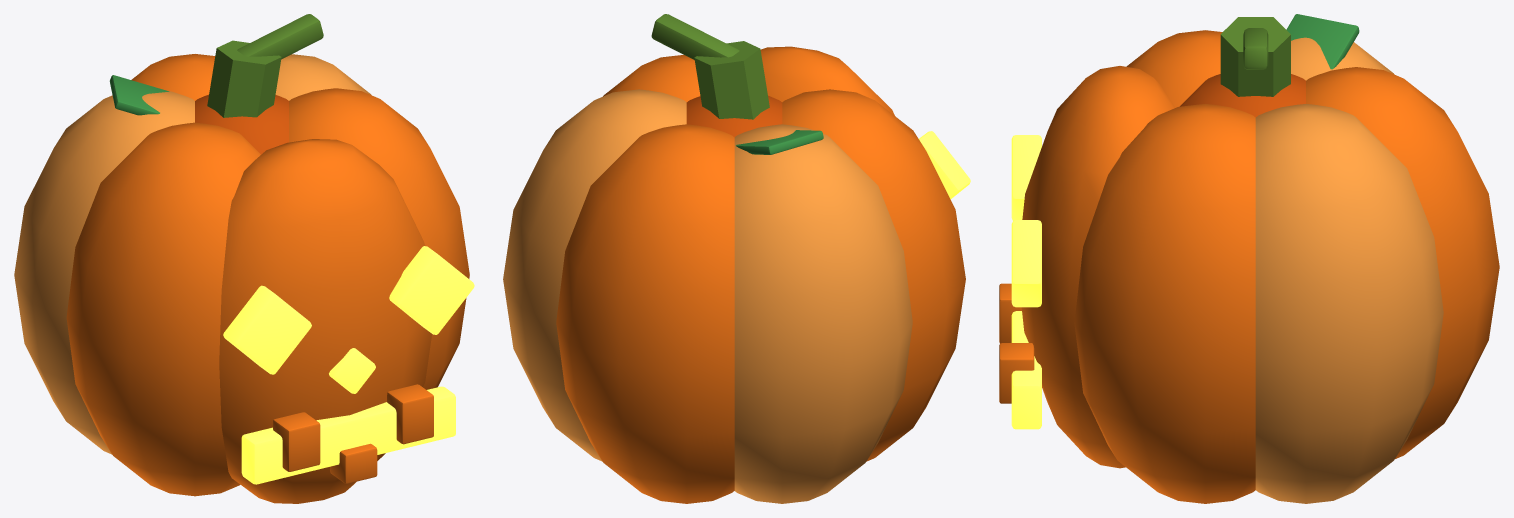
Rendered from prop_04_jackolantern.glb.
The picture shows the model from 3 angles, left to right: view 1: azimuth 30°, elevation 25°; view 2: azimuth 150°, elevation 25°; view 3: azimuth 270°, elevation 25°; orthographic projection. The views are drawn at different scales.
Visible parts, largest first — view 1: Prop; view 2: Prop; view 3: Prop.
Part boxes in pixels (x1,y1,x2,y2): Prop: (14, 14, 474, 503); Prop: (503, 14, 970, 503); Prop: (999, 14, 1499, 503).
Bounding box in the file's own units: 0.5498 × 0.5916 × 0.597.
Materials: 1 (1 with a texture image).
